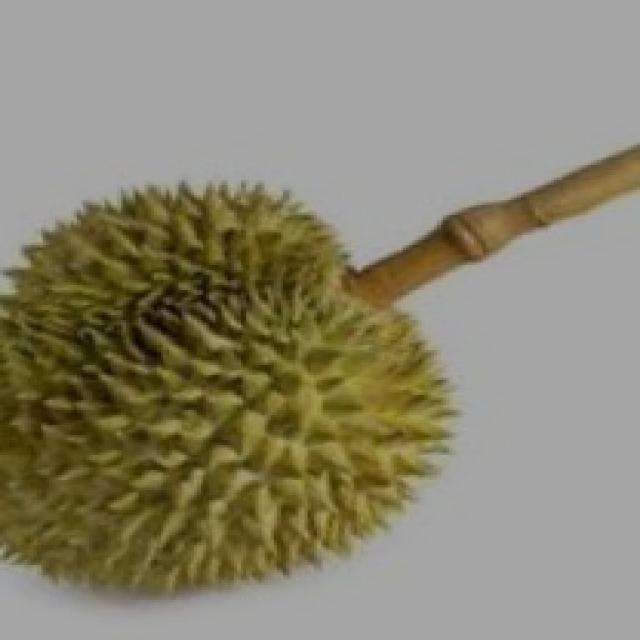fruit: (3, 267, 384, 640)
